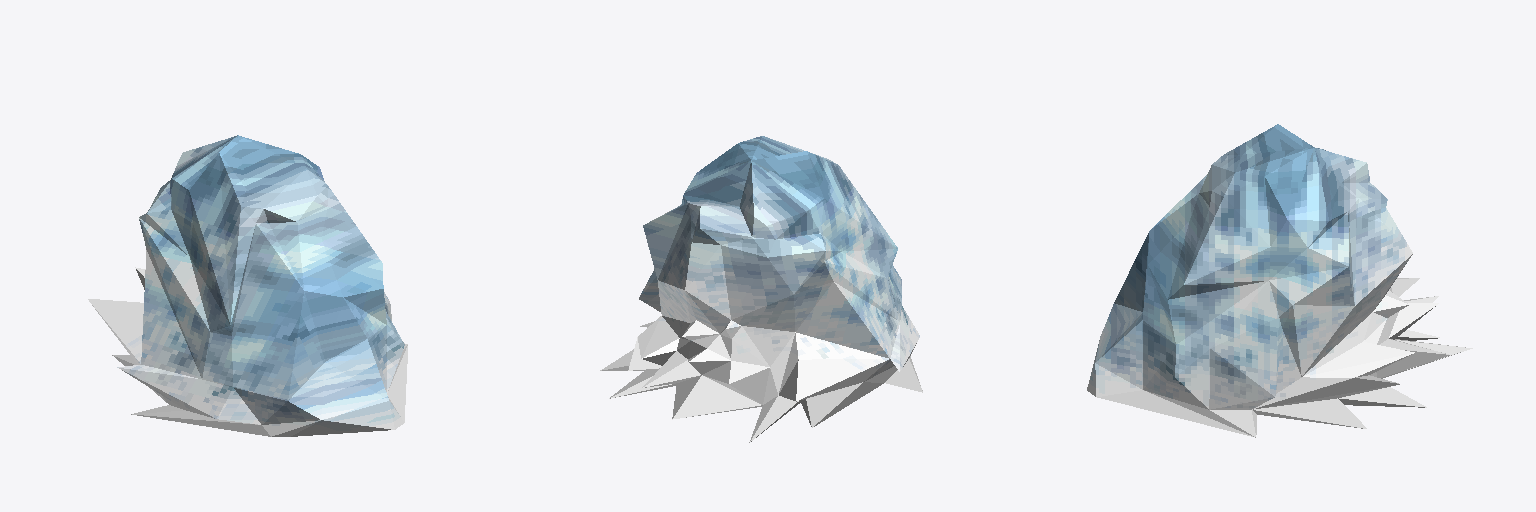
3 renders of one model, left to right at view 1: azimuth 30°, elevation 25°; view 2: azimuth 150°, elevation 25°; view 3: azimuth 270°, elevation 25°, orthographic.
Visible parts, largest first — view 1: polygon0, polygon1, polygon2; view 2: polygon0, polygon1, polygon2; view 3: polygon0, polygon2, polygon1.
Boxes of the visible parts, x1=… form: polygon0: x1=139, y1=135, x2=404, y2=436; polygon1: x1=88, y1=267, x2=215, y2=418; polygon2: x1=112, y1=269, x2=407, y2=436; polygon0: x1=639, y1=136, x2=919, y2=358; polygon1: x1=638, y1=316, x2=919, y2=401; polygon2: x1=600, y1=321, x2=922, y2=442; polygon0: x1=1087, y1=124, x2=1412, y2=409; polygon2: x1=1097, y1=278, x2=1472, y2=437; polygon1: x1=1211, y1=277, x2=1438, y2=409.
Size of the model in its own units: 25.26 by 19.51 by 30.06.
Materials: 3 (1 with a texture image).